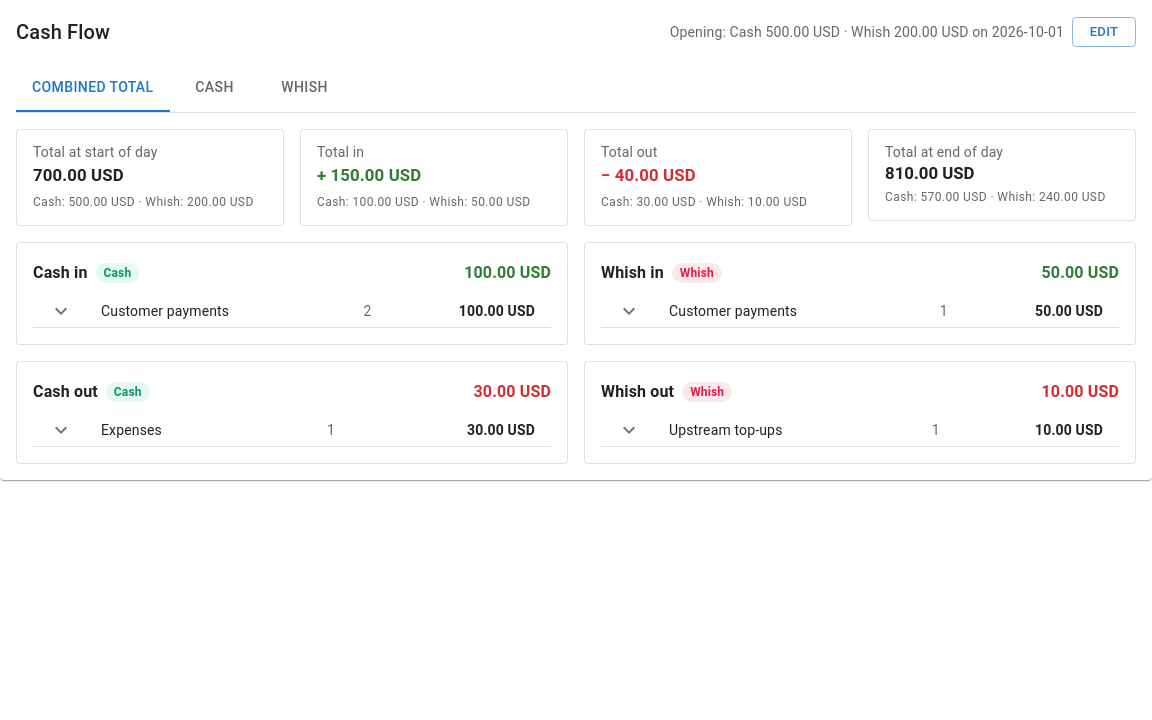
Test case: DailyCashFlowSection › opens dialog with Cash and Whish opening balance inputs
Click the button "Edit": (1104, 32) [1072,17,1136,47]
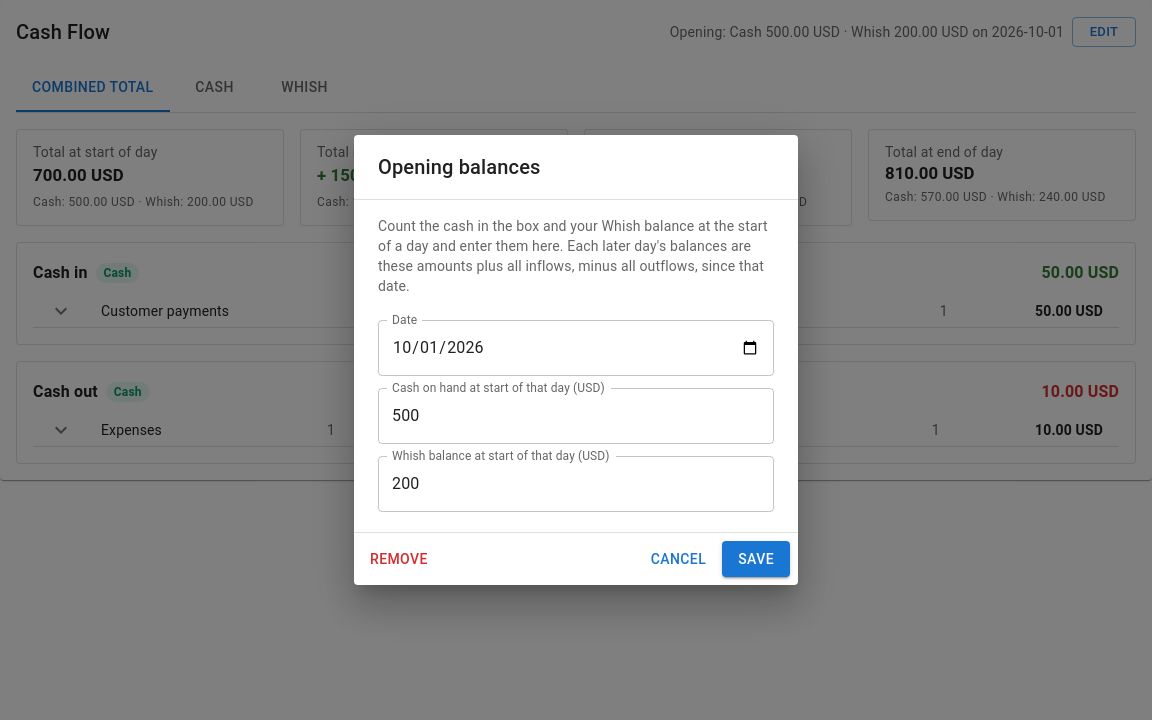
expect the dialog is shown: met, box [354,135,798,585]
expect the heading "Opening balances" is shown: met, box [378,155,541,179]
expect the number field labelled "Cash on hand at start of that day (USD)" is shown: met, box [378,388,774,444]
